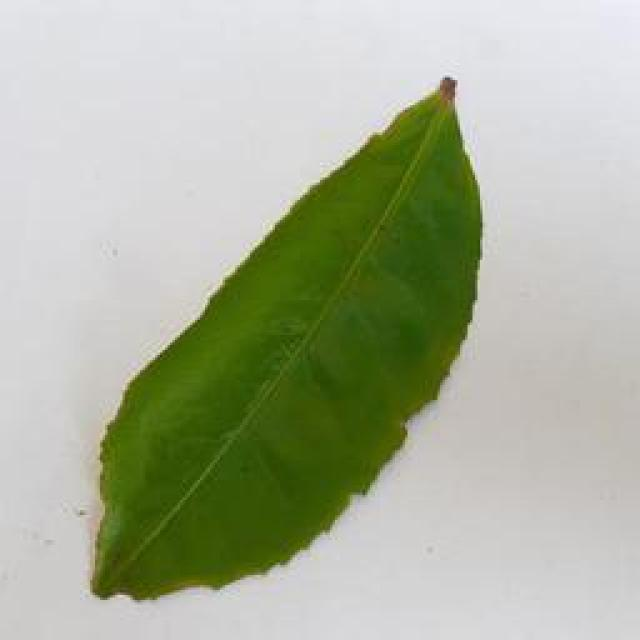Healthy: (88, 76, 490, 598)
